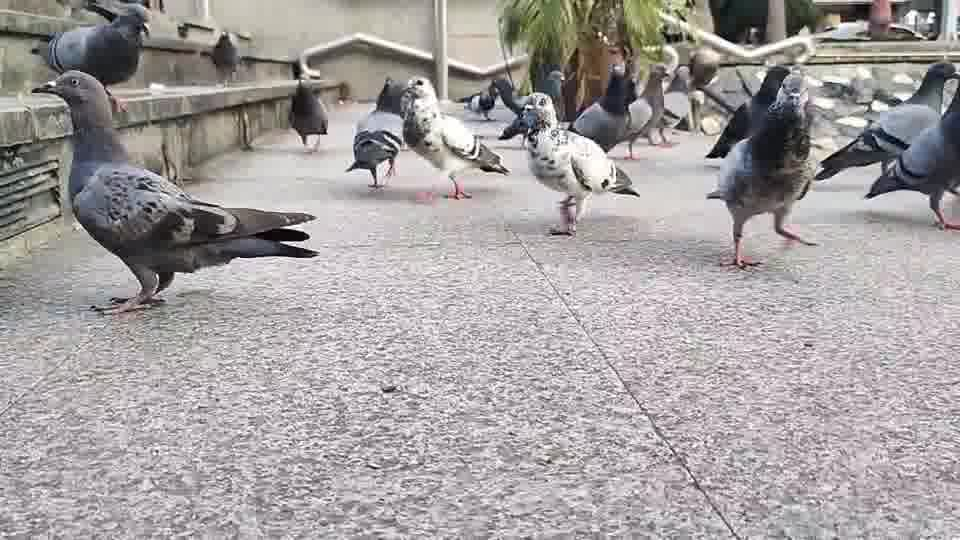Pigeon: (30, 69, 320, 314), (704, 72, 819, 269), (813, 59, 958, 181), (521, 99, 640, 238), (863, 80, 959, 231), (398, 77, 511, 199), (31, 0, 152, 112), (704, 64, 791, 159), (567, 61, 638, 153), (488, 76, 557, 149), (287, 55, 328, 153), (343, 126, 402, 188)
